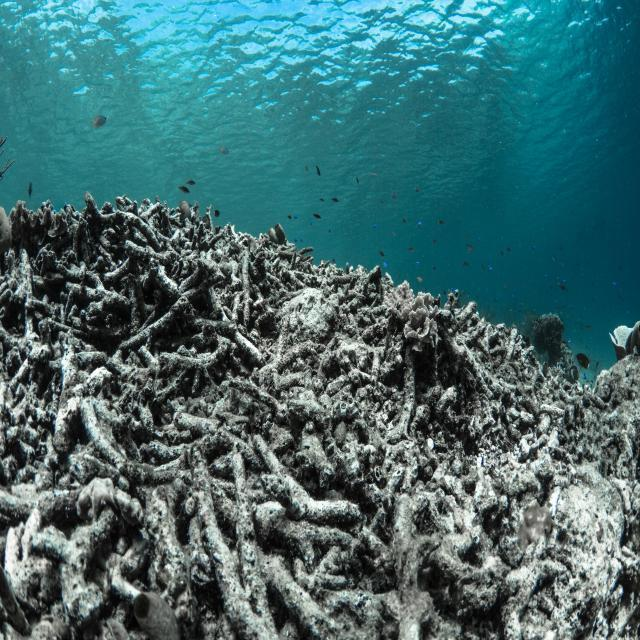Dead Coral: (0, 192, 640, 634)
